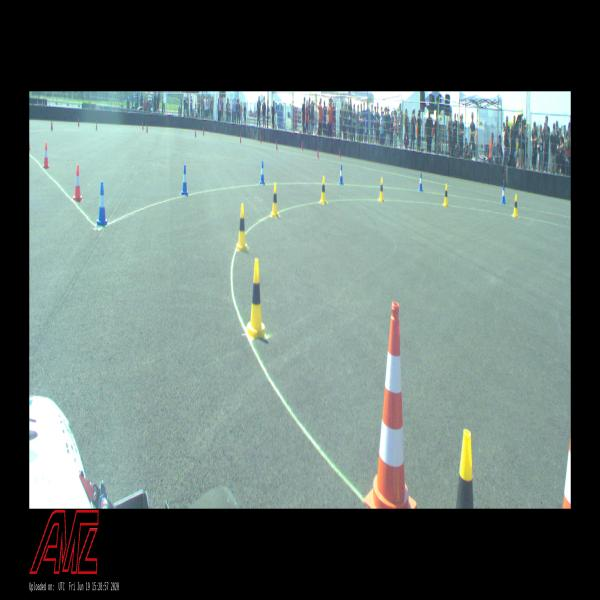blue_cone: (97, 182, 107, 226), (182, 165, 189, 195), (260, 161, 265, 184), (501, 184, 506, 203), (339, 165, 343, 184), (419, 173, 423, 191)
large_orange_cone: (364, 302, 417, 508)
orange_cone: (74, 164, 82, 201), (43, 142, 49, 168)
yellow_cone: (246, 258, 266, 337), (456, 430, 474, 508), (236, 203, 248, 250), (271, 183, 279, 217), (320, 176, 326, 203), (378, 178, 384, 202), (512, 194, 518, 218), (443, 184, 448, 205)
